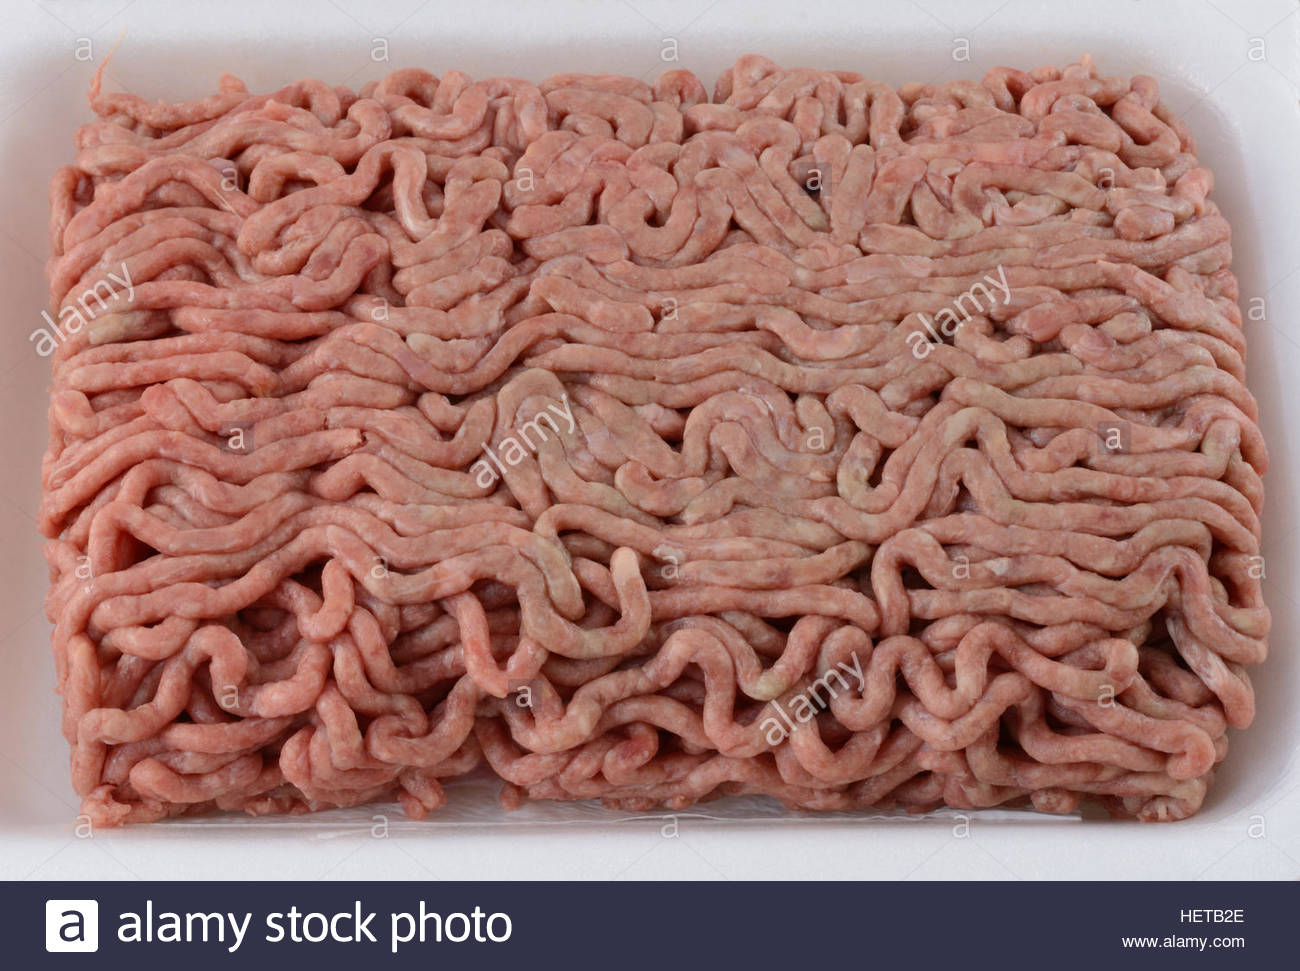ground_beef: (86, 86, 1207, 780)
